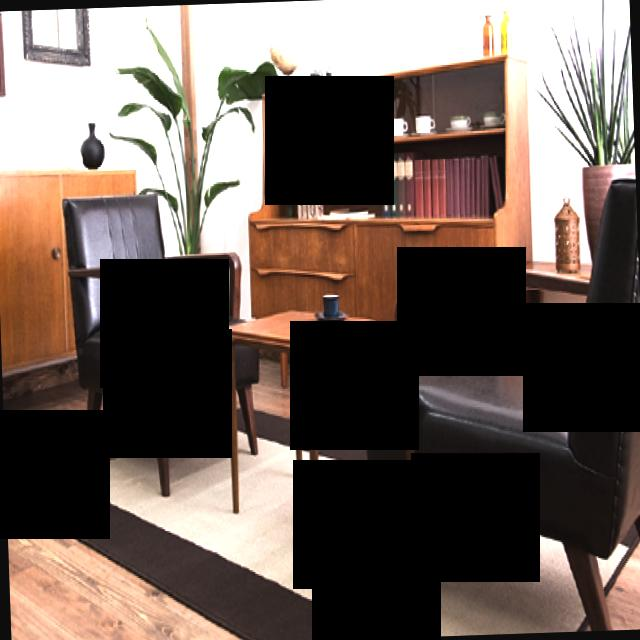vintage chair: (354, 164, 640, 637), (57, 186, 267, 507)
vintage shelf: (234, 51, 548, 390)
